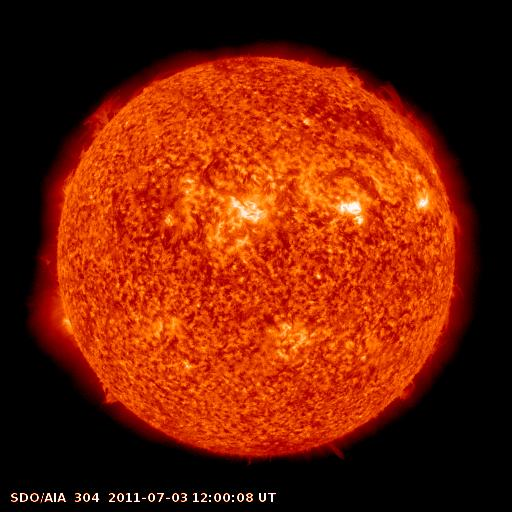prominence: (50, 83, 131, 209), (378, 79, 452, 168), (320, 55, 369, 93), (89, 371, 127, 420), (27, 242, 74, 272), (392, 372, 424, 408), (439, 204, 468, 239)
